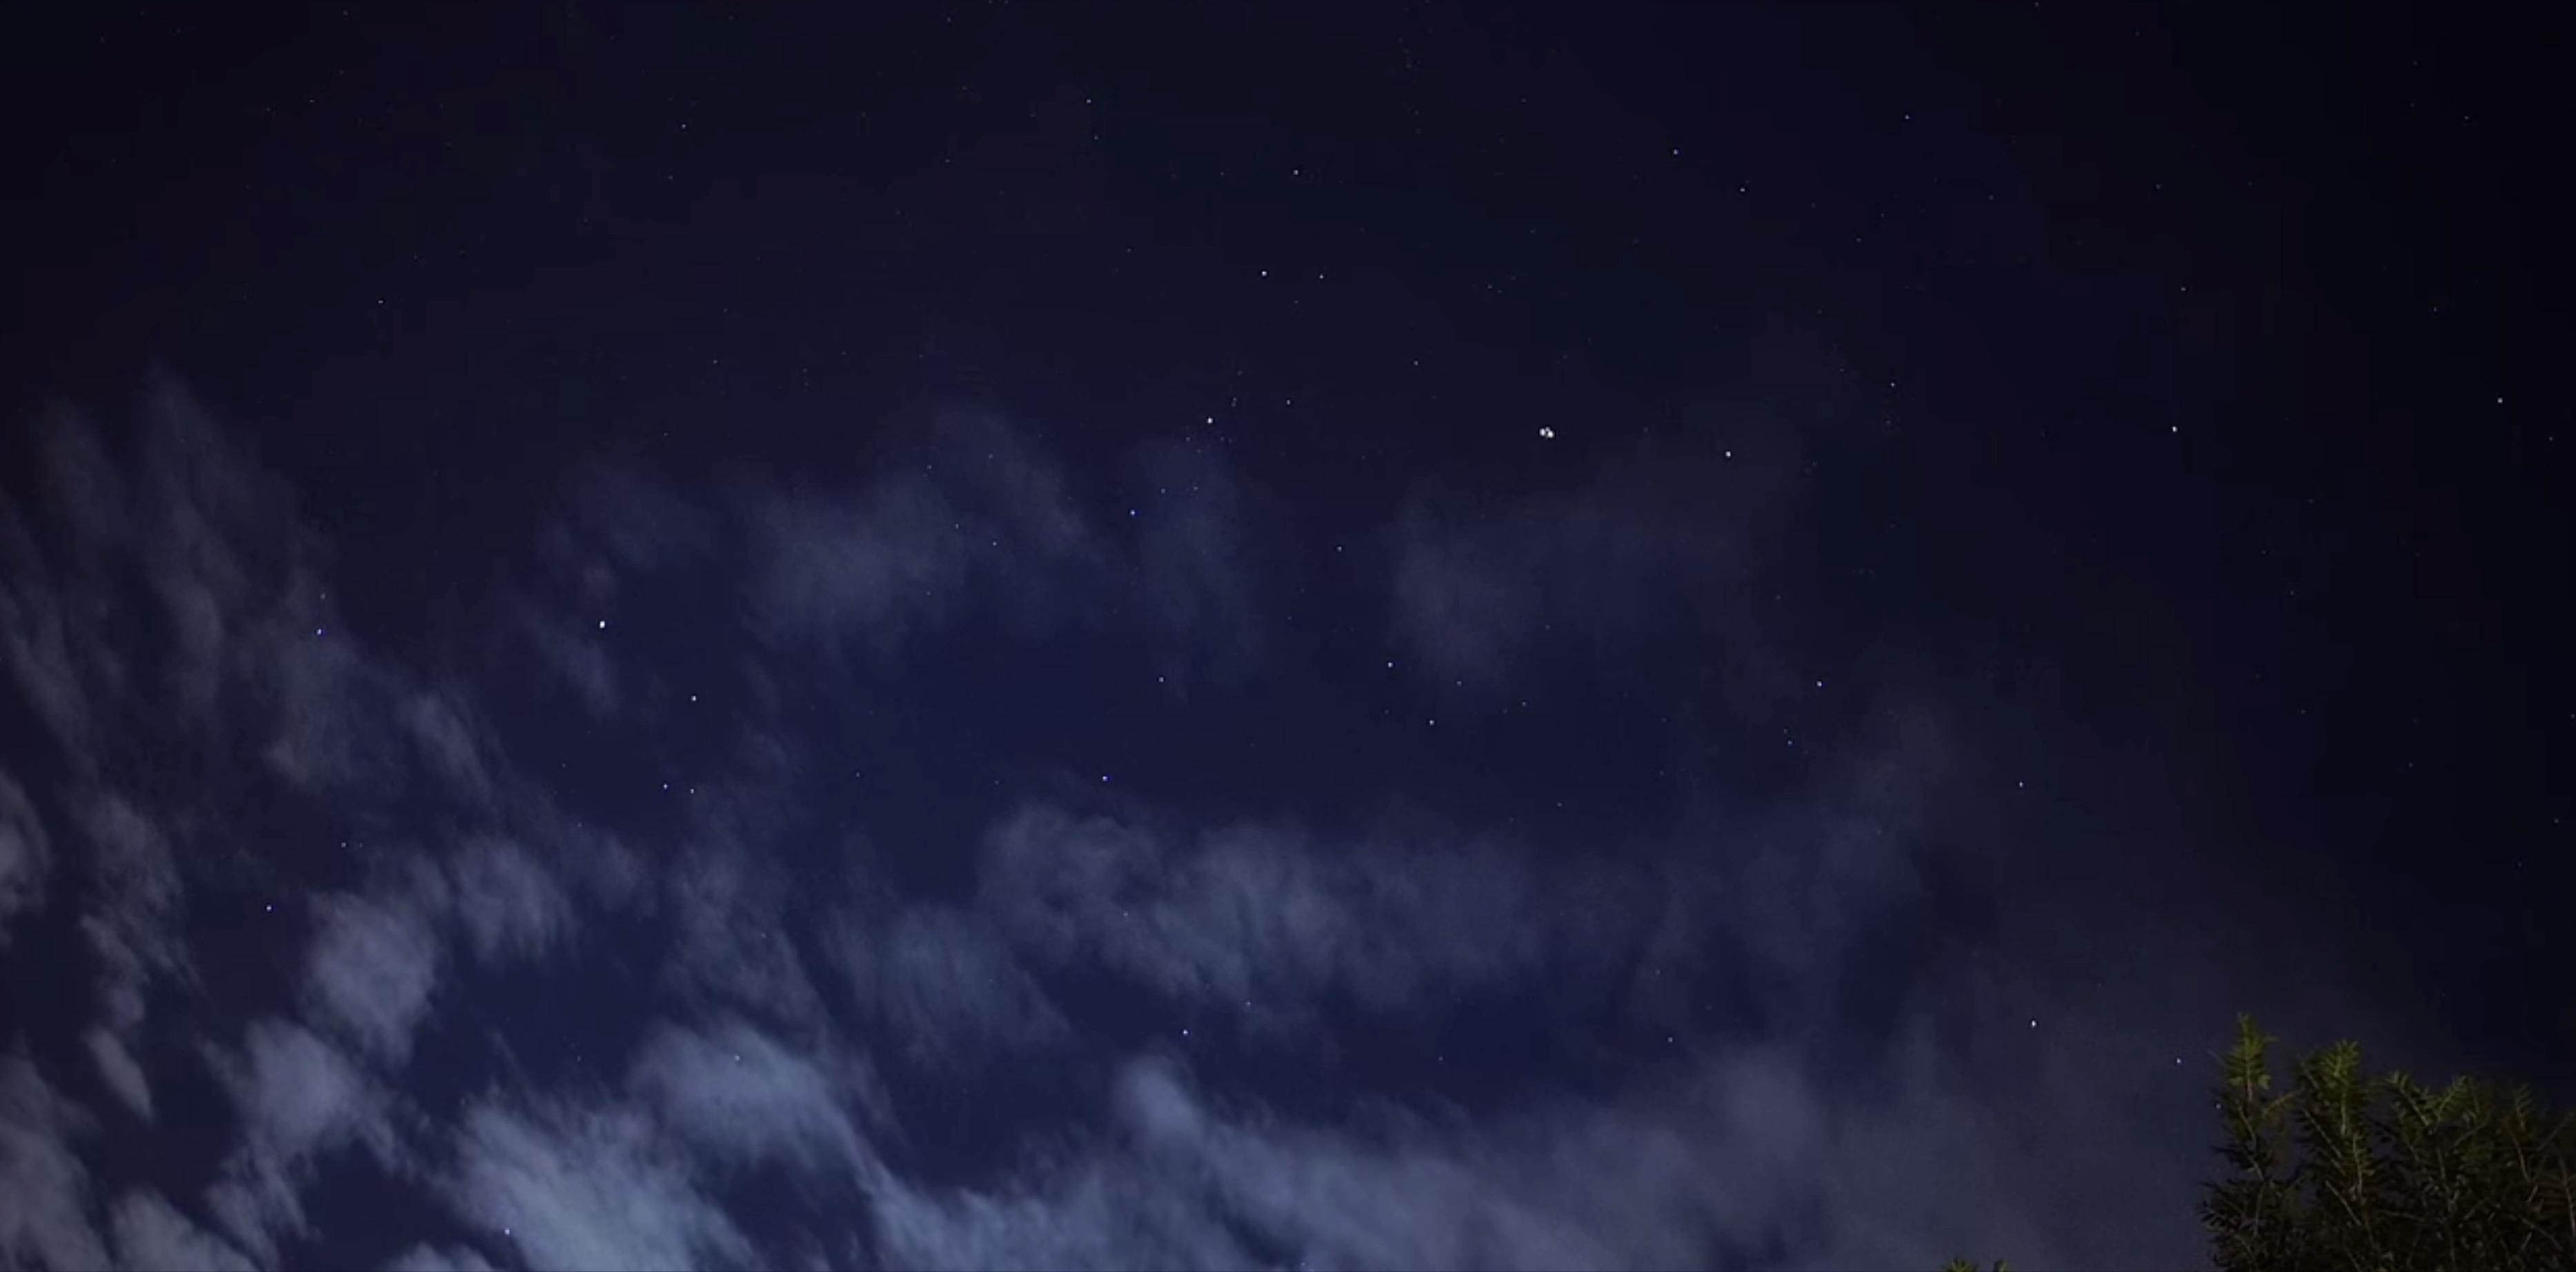Plane: (1513, 414, 1577, 450)
